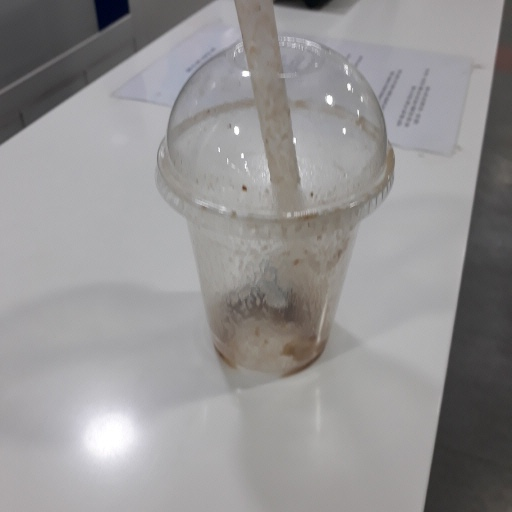Plastic_2: (157, 30, 394, 376)
